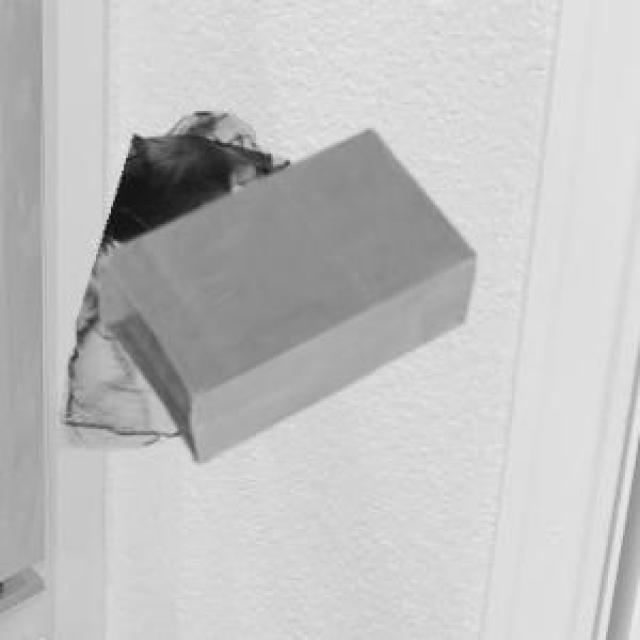paper: (94, 126, 472, 459)
